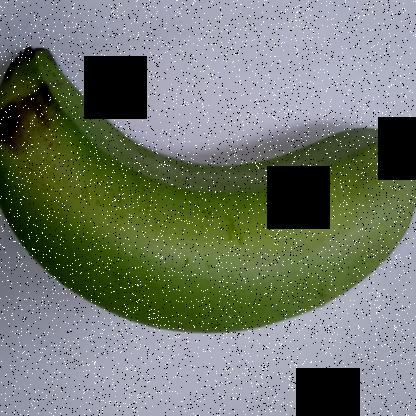freshunripe: (0, 32, 415, 355)
